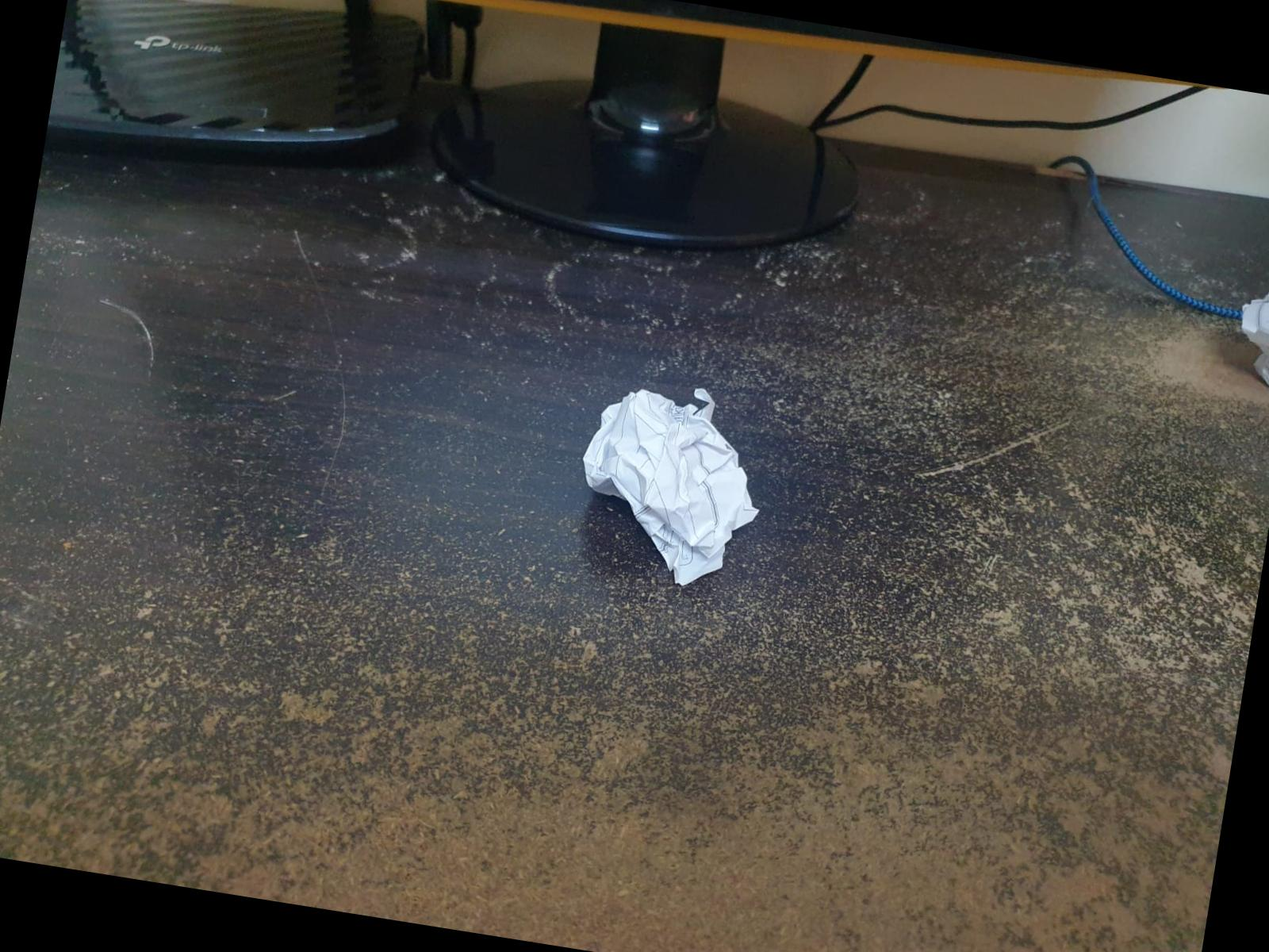Kertas: (582, 389, 757, 582)
